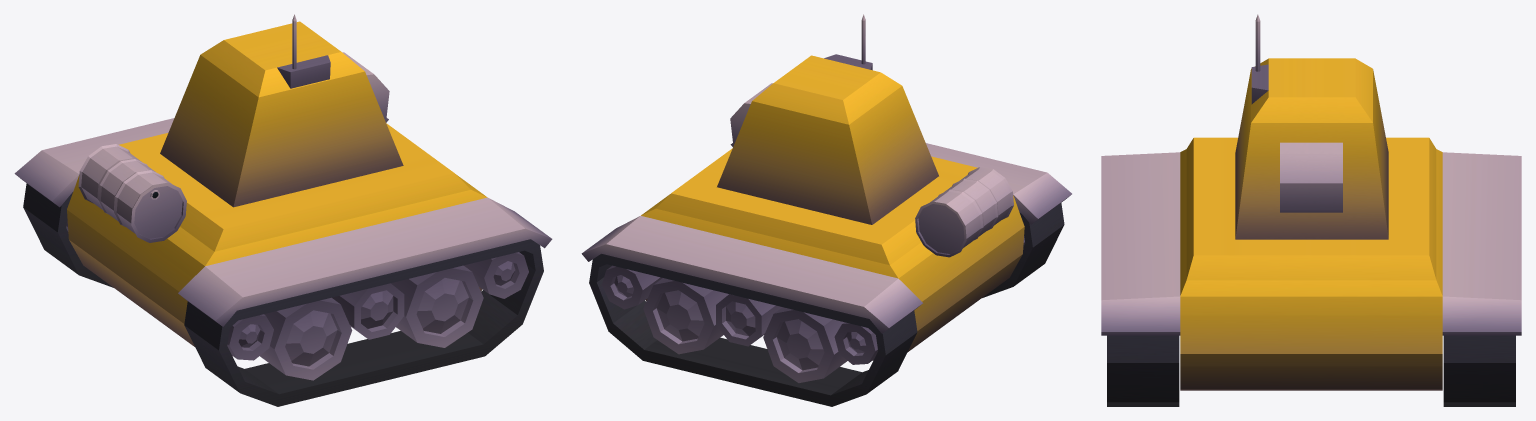
Rendered from Tank_Speeder.fbx.
3 renders of one model, left to right at view 1: azimuth 30°, elevation 25°; view 2: azimuth 150°, elevation 25°; view 3: azimuth 270°, elevation 25°, orthographic. The views are drawn at different scales.
Parts seen in each view (by area): view 1: Body Speeder, Head Speeder; view 2: Body Speeder, Head Speeder; view 3: Body Speeder, Head Speeder.
Part boxes in pixels (x1,y1,x2,y2): Body Speeder: (14, 118, 552, 406); Head Speeder: (160, 14, 403, 207); Body Speeder: (581, 143, 1071, 406); Head Speeder: (717, 14, 938, 224); Body Speeder: (1101, 137, 1521, 406); Head Speeder: (1235, 14, 1388, 239).
Size of the model in its own units: 285 by 250 by 286.
